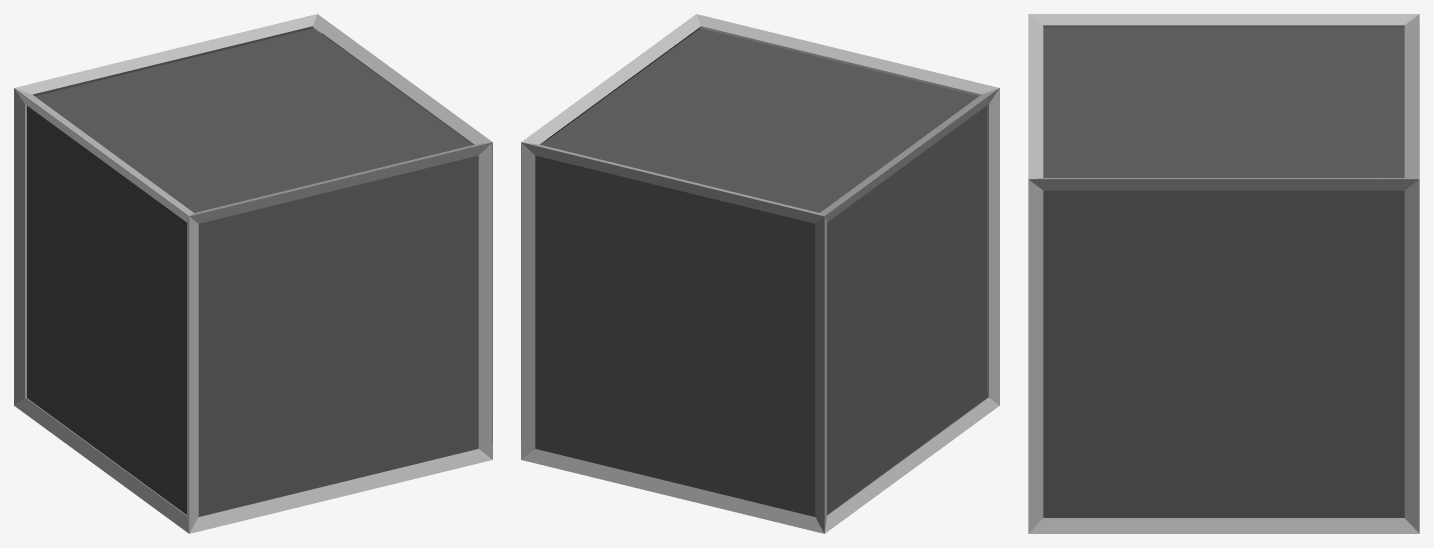
The model's file is wall.obj.
The picture shows the model from 3 angles, left to right: view 1: azimuth 30°, elevation 25°; view 2: azimuth 150°, elevation 25°; view 3: azimuth 270°, elevation 25°; orthographic projection. The views are drawn at different scales.
Parts seen in each view (by area): view 1: Cube.001; view 2: Cube.001; view 3: Cube.001.
Boxes of the visible parts, x1,y1,x2,y2 form: Cube.001: [14, 14, 492, 533]; Cube.001: [521, 14, 999, 533]; Cube.001: [1028, 14, 1419, 533].
Bounding box in the file's own units: 42.18 × 42.18 × 42.18.
Materials: 1 (1 with a texture image).
